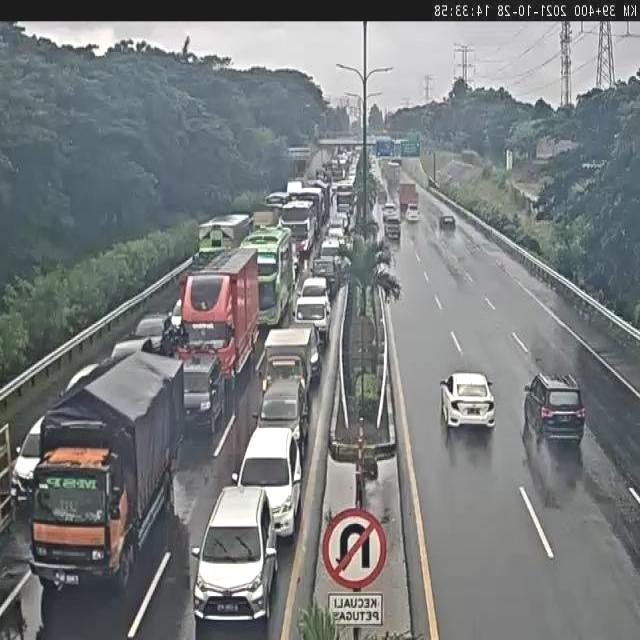Bus: (238, 225, 295, 326), (278, 198, 320, 258)
Car: (191, 482, 281, 626), (235, 426, 303, 541), (523, 373, 586, 449), (440, 372, 497, 431), (12, 417, 47, 503), (315, 238, 346, 288), (385, 215, 401, 241), (331, 212, 348, 235), (327, 224, 345, 243), (383, 202, 398, 219), (439, 215, 456, 230), (406, 204, 420, 222)
Truck: (28, 348, 185, 595), (174, 246, 262, 418), (259, 328, 318, 424), (197, 214, 253, 266), (294, 292, 330, 344), (300, 273, 330, 307)
